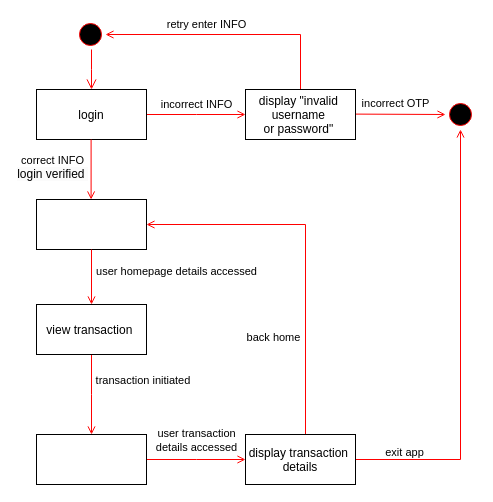
This 493x502 diagram has some shape labels left out. Each missing label, with the centre of its shape:
"choose one transaction" goes at (x=91, y=459).
"view home" goes at (x=91, y=224).
